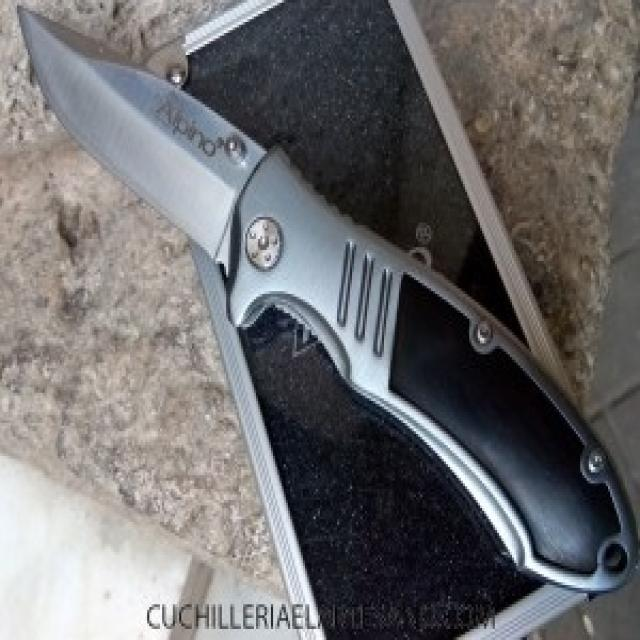knife: (11, 1, 640, 594)
